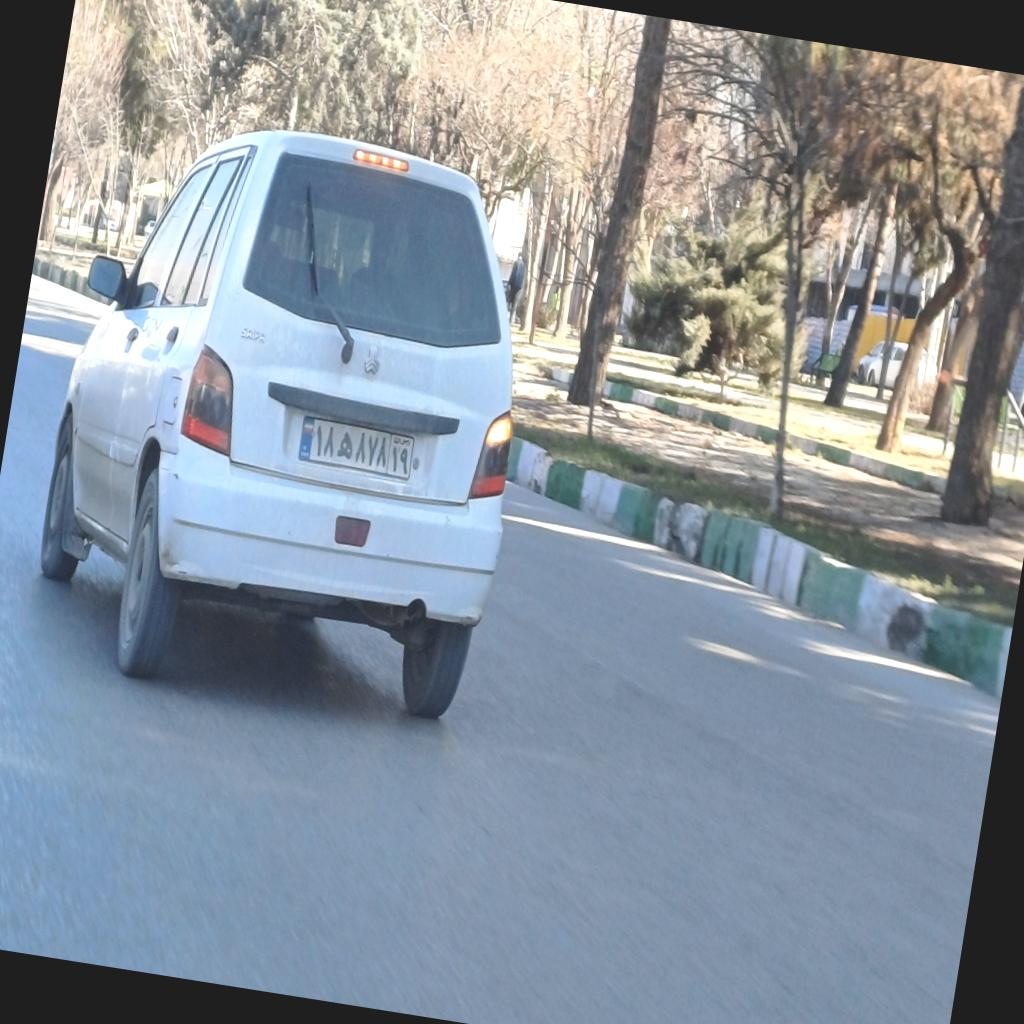Plates: (297, 416, 416, 478)
